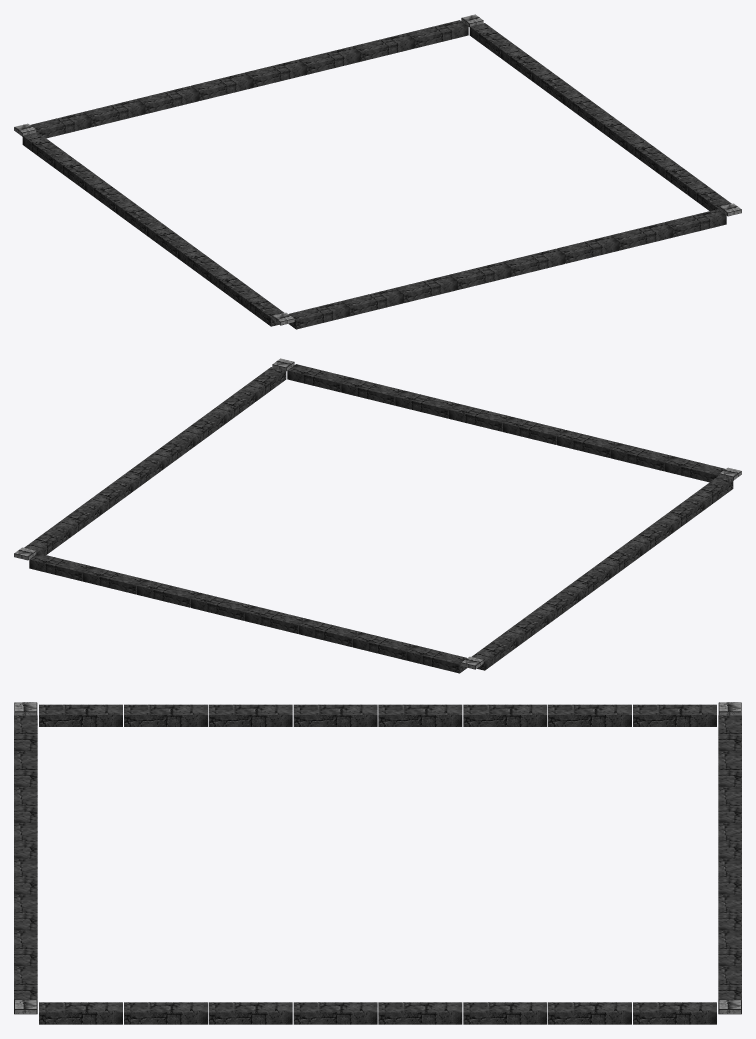
Rendered from frame_8.glb.
The picture shows the model from 3 angles, top to bottom: view 1: azimuth 30°, elevation 25°; view 2: azimuth 150°, elevation 25°; view 3: azimuth 270°, elevation 25°; orthographic projection. The views are drawn at different scales.
Parts seen in each view (by area): view 1: Border block.025, Border block.031, Border block.053, Border block.055, Border block.027, Border block.029, Border block.043, Border block.039, Border block.051, Border block.033, Border block.035, Border block.037 (+20 smaller); view 2: Border block.041, Border block.037, Border block.039, Border block.047, Border block.027, Border block.043, Border block.045, Border block.055, Border block.035, Border block.033, Border block.049, Border block.051 (+20 smaller); view 3: Border block.044, Border block.046, Border block.048, Border block.050, Border block.028, Border block.030, Border block.032, Border block.034, Border block.024, Border block.026, Border block.036, Border block.038 (+20 smaller).
Part boxes in pixels (x1=…): Border block.025: x1=288, y1=301, x2=349, y2=329; Border block.031: x1=449, y1=261, x2=511, y2=289; Border block.053: x1=352, y1=33, x2=414, y2=61; Border block.055: x1=406, y1=20, x2=468, y2=48; Border block.027: x1=341, y1=288, x2=403, y2=316; Border block.029: x1=395, y1=275, x2=457, y2=302; Border block.043: x1=83, y1=99, x2=145, y2=127; Border block.039: x1=664, y1=209, x2=726, y2=237; Border block.051: x1=298, y1=46, x2=360, y2=74; Border block.033: x1=503, y1=248, x2=564, y2=276; Border block.035: x1=557, y1=235, x2=618, y2=263; Border block.037: x1=611, y1=222, x2=672, y2=250; Border block.041: x1=406, y1=645, x2=467, y2=673; Border block.037: x1=341, y1=377, x2=403, y2=405; Border block.039: x1=287, y1=364, x2=349, y2=392; Border block.047: x1=244, y1=605, x2=306, y2=633; Border block.027: x1=610, y1=443, x2=672, y2=471; Border block.043: x1=352, y1=632, x2=414, y2=660; Border block.045: x1=298, y1=619, x2=360, y2=646; Border block.055: x1=29, y1=553, x2=91, y2=581; Border block.035: x1=395, y1=390, x2=457, y2=418; Border block.033: x1=449, y1=403, x2=510, y2=431; Border block.049: x1=191, y1=592, x2=252, y2=620; Border block.051: x1=137, y1=579, x2=198, y2=607; Border block.044: x1=208, y1=1002, x2=292, y2=1024; Border block.046: x1=293, y1=1002, x2=377, y2=1024; Border block.048: x1=378, y1=1002, x2=462, y2=1024; Border block.050: x1=463, y1=1002, x2=547, y2=1024; Border block.028: x1=208, y1=704, x2=292, y2=726; Border block.030: x1=293, y1=704, x2=377, y2=726; Border block.032: x1=378, y1=704, x2=462, y2=726; Border block.034: x1=463, y1=704, x2=547, y2=726; Border block.024: x1=39, y1=704, x2=122, y2=726; Border block.026: x1=124, y1=704, x2=207, y2=726; Border block.036: x1=548, y1=704, x2=631, y2=726; Border block.038: x1=633, y1=704, x2=716, y2=726.
Size of the model in its own units: 8.58 by 0.2 by 8.58.
Materials: 2 (1 with a texture image).
